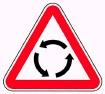Aproximacao de rotunda: (3, 2, 102, 92)
